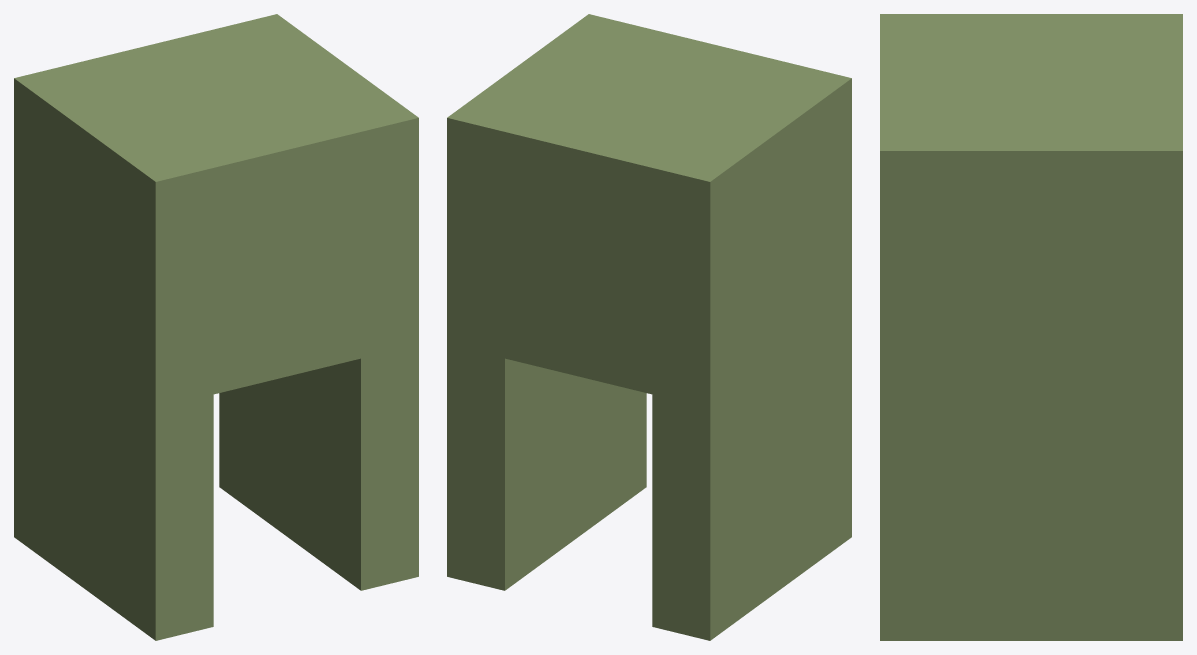
Rendered from Finish.fbx.
3 renders of one model, left to right at view 1: azimuth 30°, elevation 25°; view 2: azimuth 150°, elevation 25°; view 3: azimuth 270°, elevation 25°, orthographic. The views are drawn at different scales.
Parts seen in each view (by area): view 1: Cube; view 2: Cube; view 3: Cube.
Part boxes in pixels (x1=…): Cube: x1=14, y1=14, x2=418, y2=640; Cube: x1=447, y1=14, x2=851, y2=640; Cube: x1=880, y1=14, x2=1182, y2=640.
Size of the model in its own units: 150 by 250 by 140.
